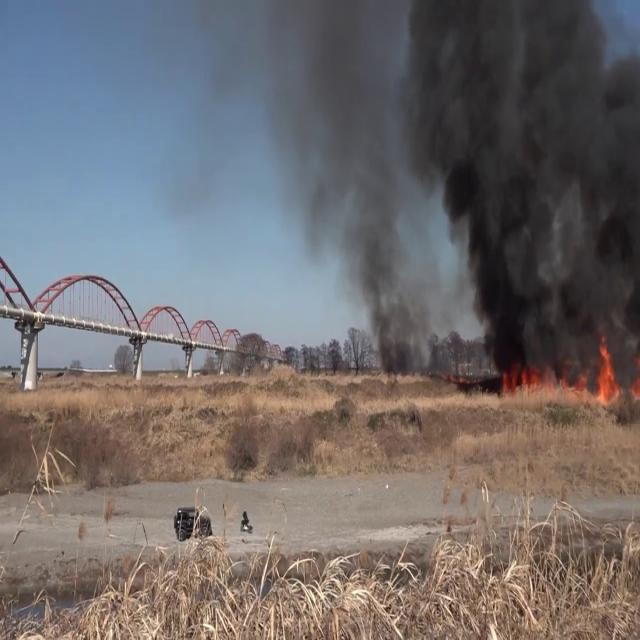Fire: (498, 360, 590, 407), (594, 331, 620, 407)
Smoke: (405, 0, 640, 377), (254, 0, 434, 366)
